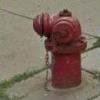a fire hydrant: (39, 9, 85, 90)
